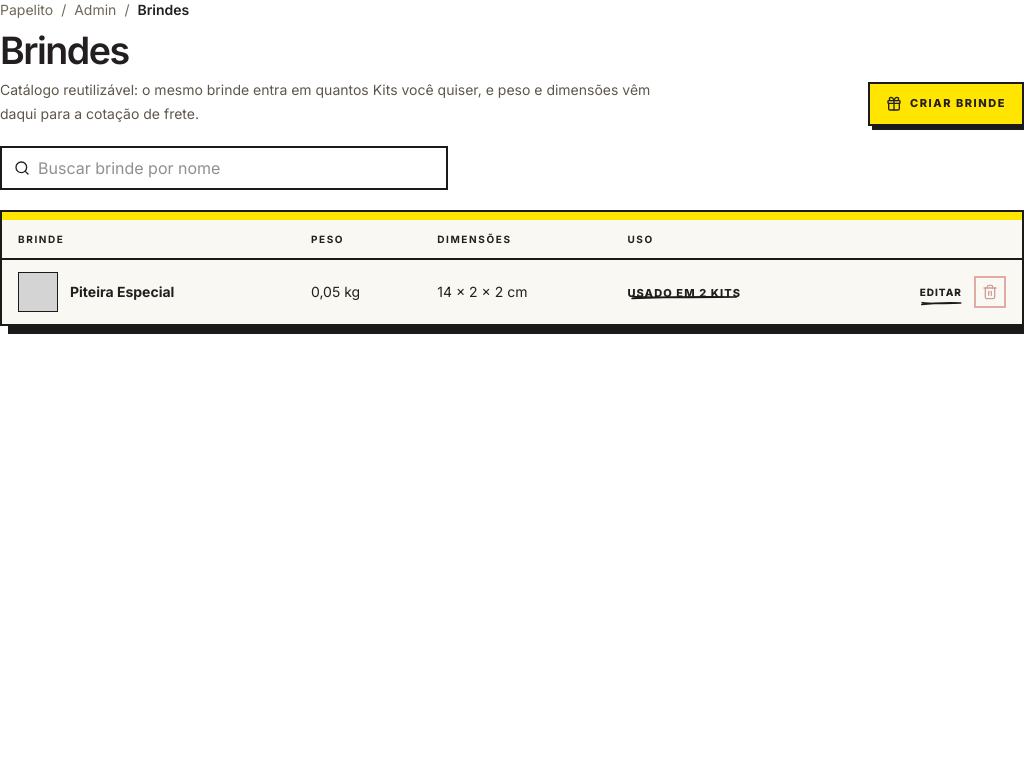
it: MerchandiseManager › avisa como erro quando um Kit quebrado continua publicado
Step 1. Click the button "Editar" → (941, 292), box top-left (920, 276), bottom-right (962, 308)
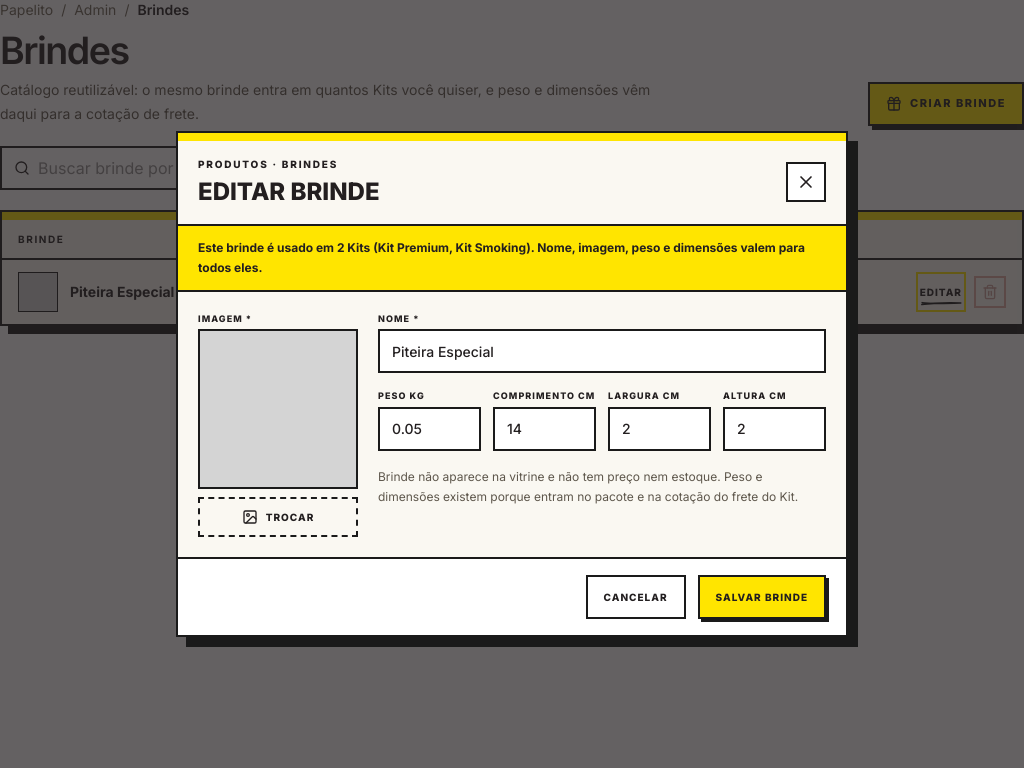
Step 2. Replace the text in the field labelled "Peso kg" with "9" → (430, 429), box top-left (378, 407), bottom-right (481, 451)
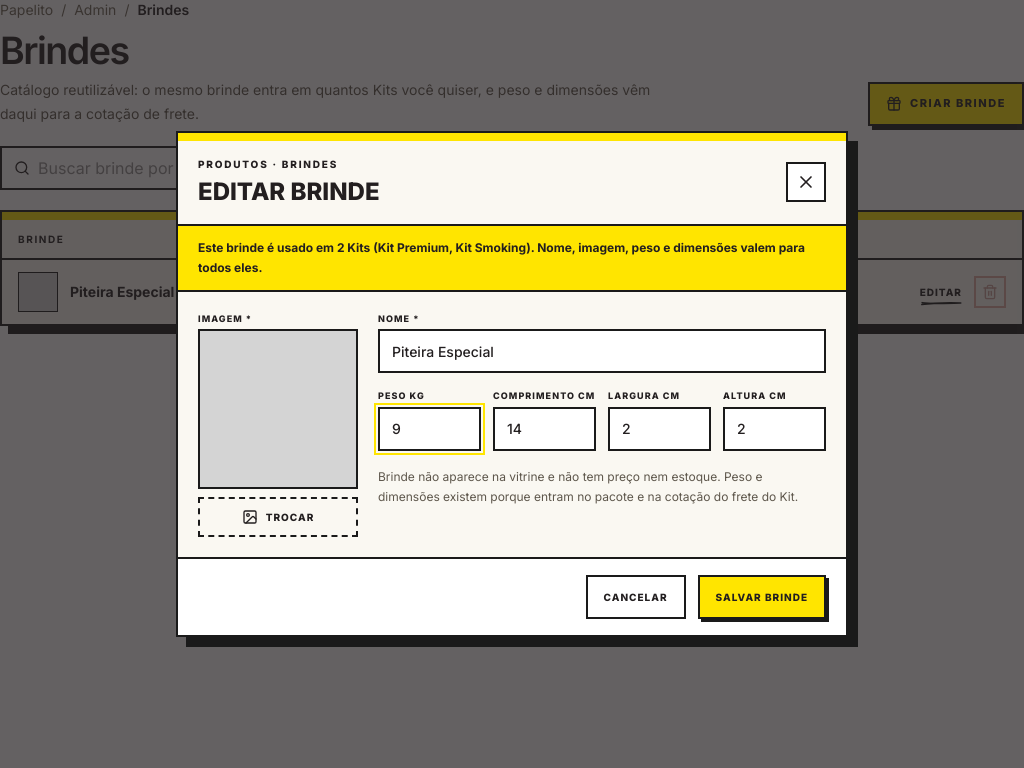
Step 3. Click the button "Salvar brinde" → (762, 597), box top-left (698, 575), bottom-right (826, 619)
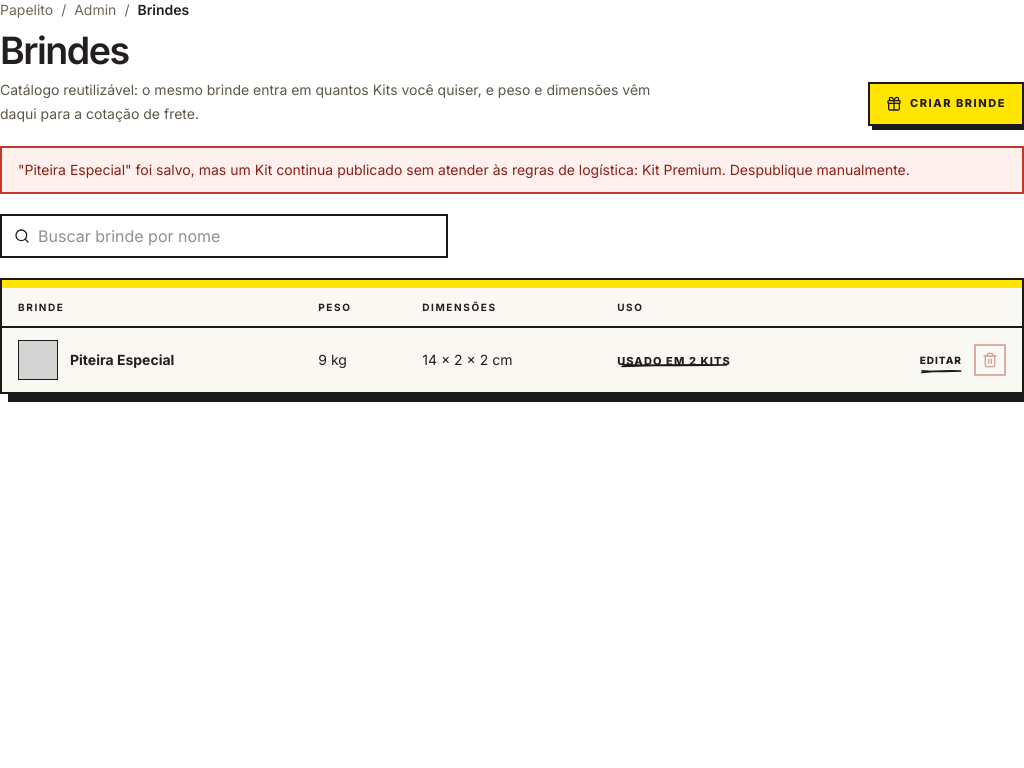
Expected: the message shows "um Kit continua publicado sem atender às regras de logística: Kit Premium", top-left (18, 161), bottom-right (910, 178)
Expected: the message shows "Despublique manualmente.", top-left (18, 161), bottom-right (910, 178)
